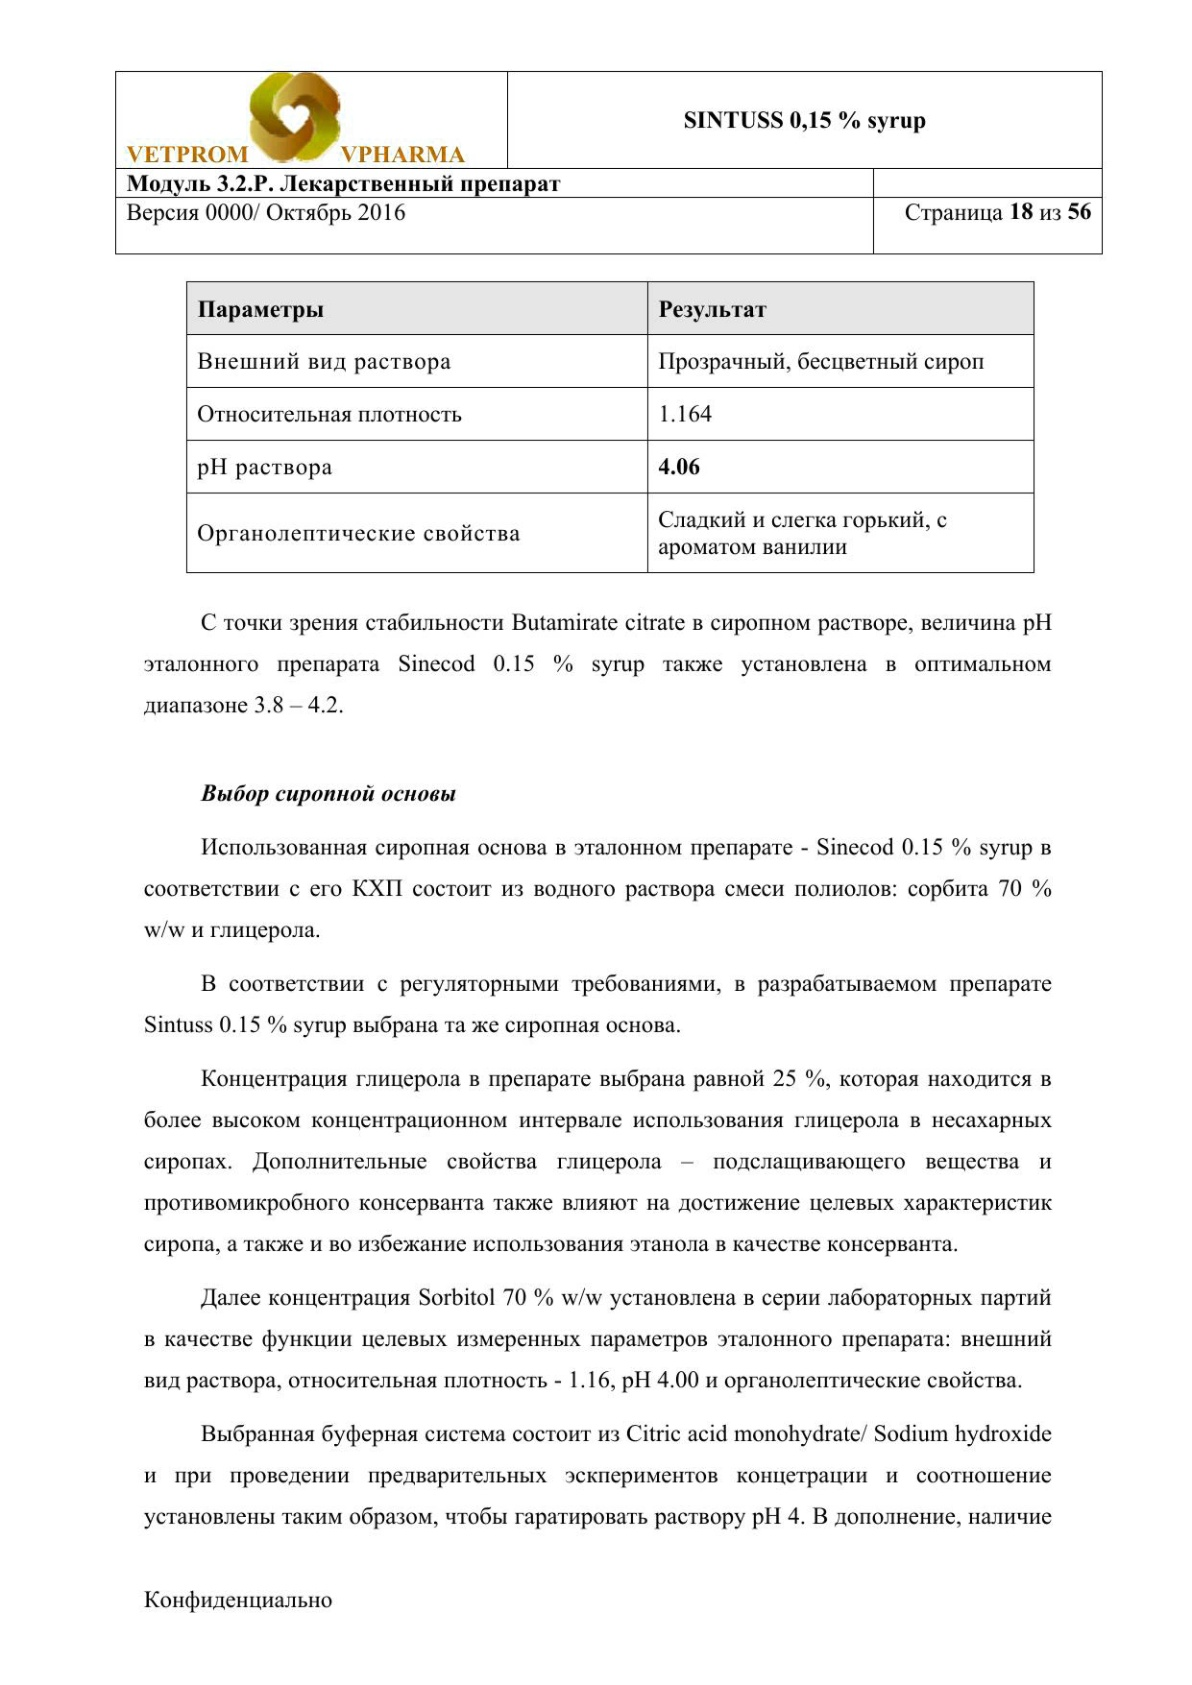full_lined: (184, 280, 1035, 574)
merged_cells: (114, 70, 1103, 255)
